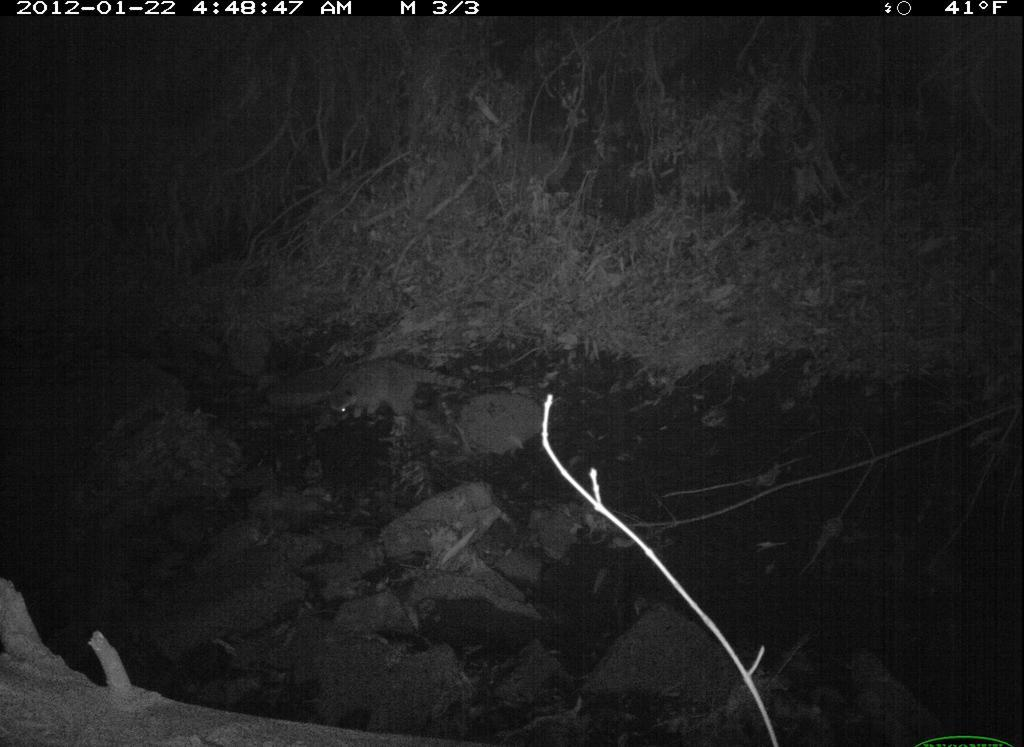raccoon: (323, 351, 473, 455)
